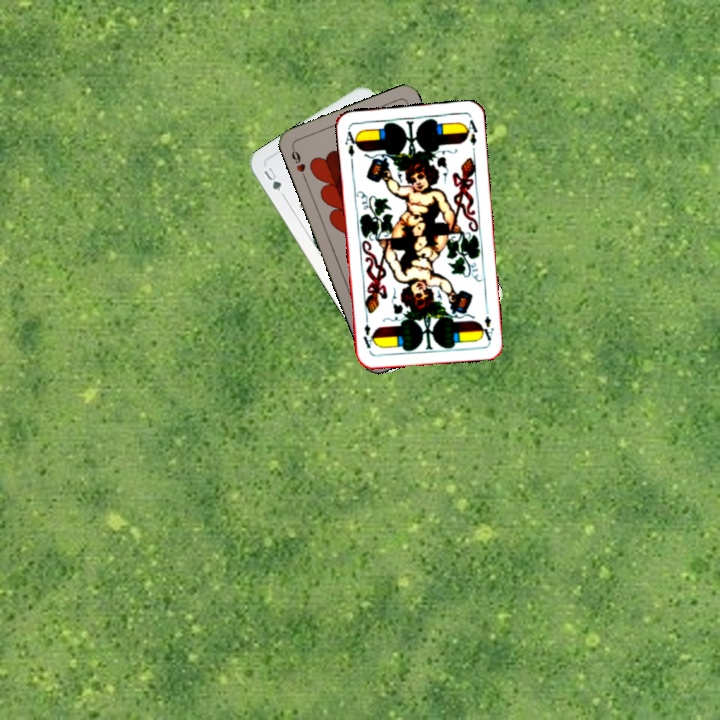EA: (477, 303, 496, 343), (341, 125, 361, 159)
GU: (260, 163, 284, 194)
H9: (287, 143, 309, 182)
